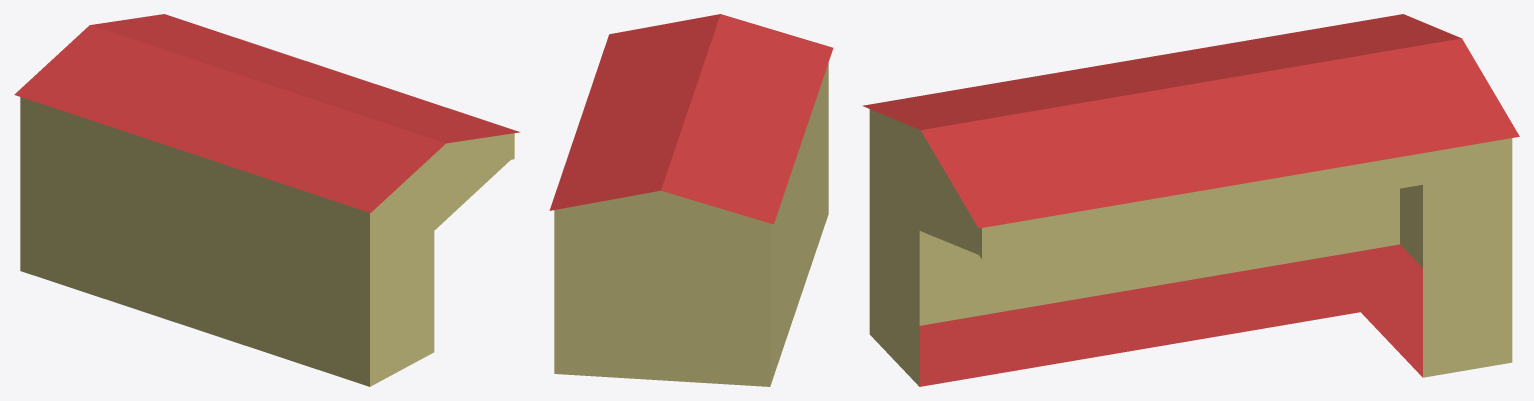
The picture shows the model from 3 angles, left to right: view 1: azimuth 30°, elevation 25°; view 2: azimuth 150°, elevation 25°; view 3: azimuth 270°, elevation 25°; orthographic projection. The views are drawn at different scales.
Bounding box in the file's own units: 21.82 × 28.27 × 12.54.
